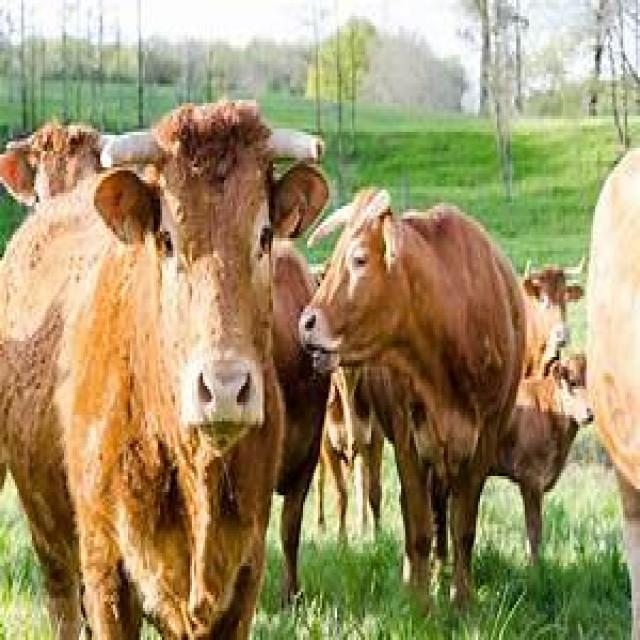cow: (0, 103, 331, 640), (311, 190, 582, 608)
